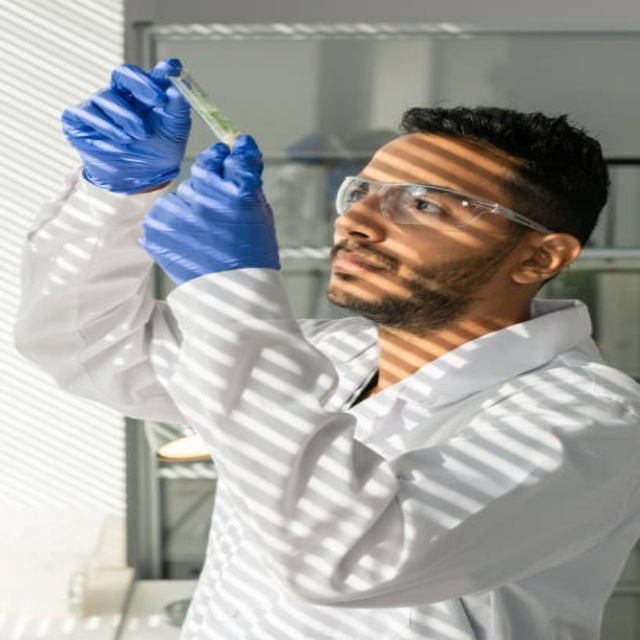Gafas: (336, 175, 558, 236)
Guantes: (141, 135, 284, 284), (60, 58, 196, 196)
Sin_mascara: (325, 242, 413, 305)
